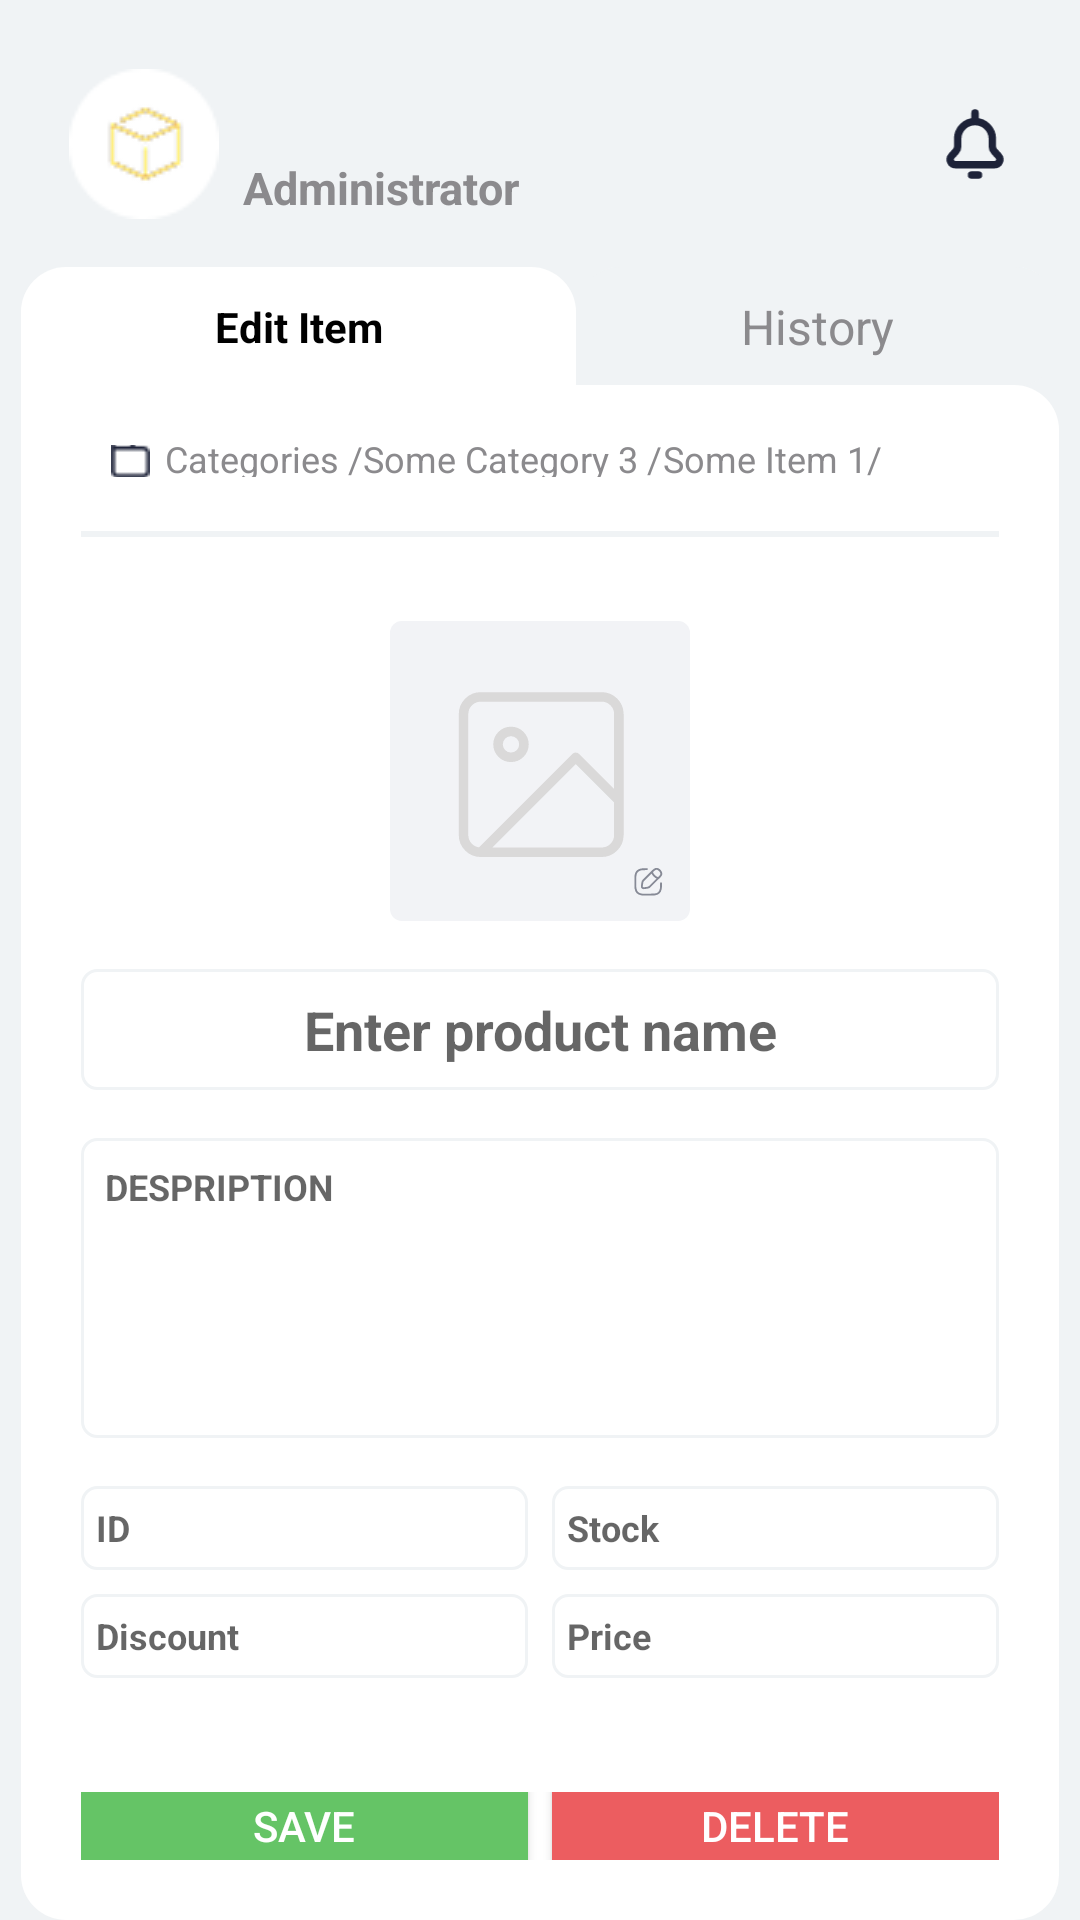

Icons on this 1080x1920 Android screen, each with its box as bbox(x1, y1, x2, y2):
bell: bbox(946, 109, 1004, 179)
